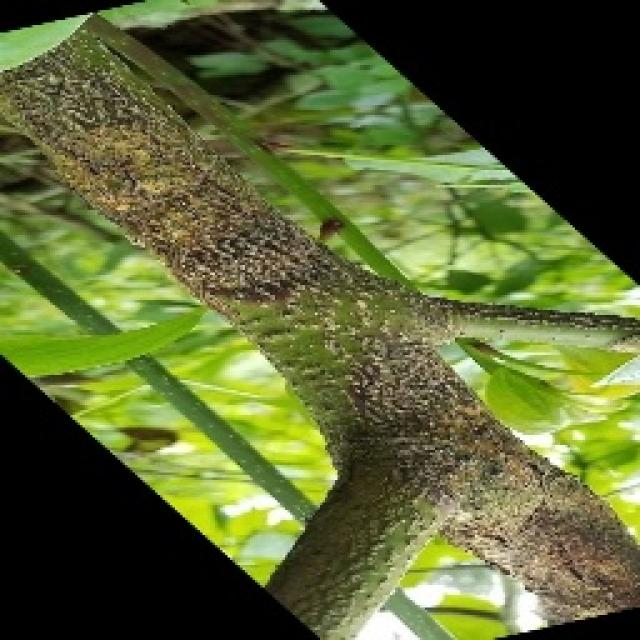Golden_canker: (3, 7, 634, 639)
